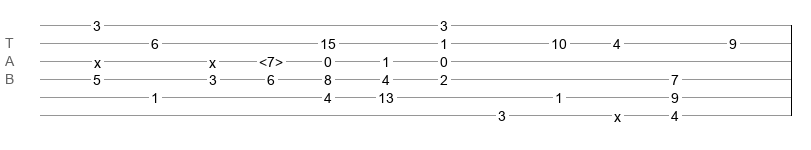0: (324, 54, 332, 64), (440, 54, 448, 64)
1: (151, 90, 159, 100), (382, 54, 390, 64), (440, 36, 448, 46), (555, 90, 563, 100)
10: (551, 36, 567, 46)
13: (378, 90, 394, 100)
15: (320, 36, 336, 46)
2: (440, 72, 448, 82)
3: (93, 18, 101, 28), (209, 72, 217, 82), (440, 18, 448, 28), (498, 108, 506, 118)
4: (324, 90, 332, 100), (382, 72, 390, 82), (613, 36, 621, 46), (671, 108, 679, 118)
5: (93, 72, 101, 82)
6: (151, 36, 159, 46), (267, 72, 275, 82)
7: (671, 72, 679, 82)
8: (324, 72, 332, 82)
9: (671, 90, 679, 100), (729, 36, 737, 46)
harmonic: (259, 54, 283, 64)
x: (94, 55, 101, 63), (209, 55, 216, 63), (614, 109, 621, 117)
